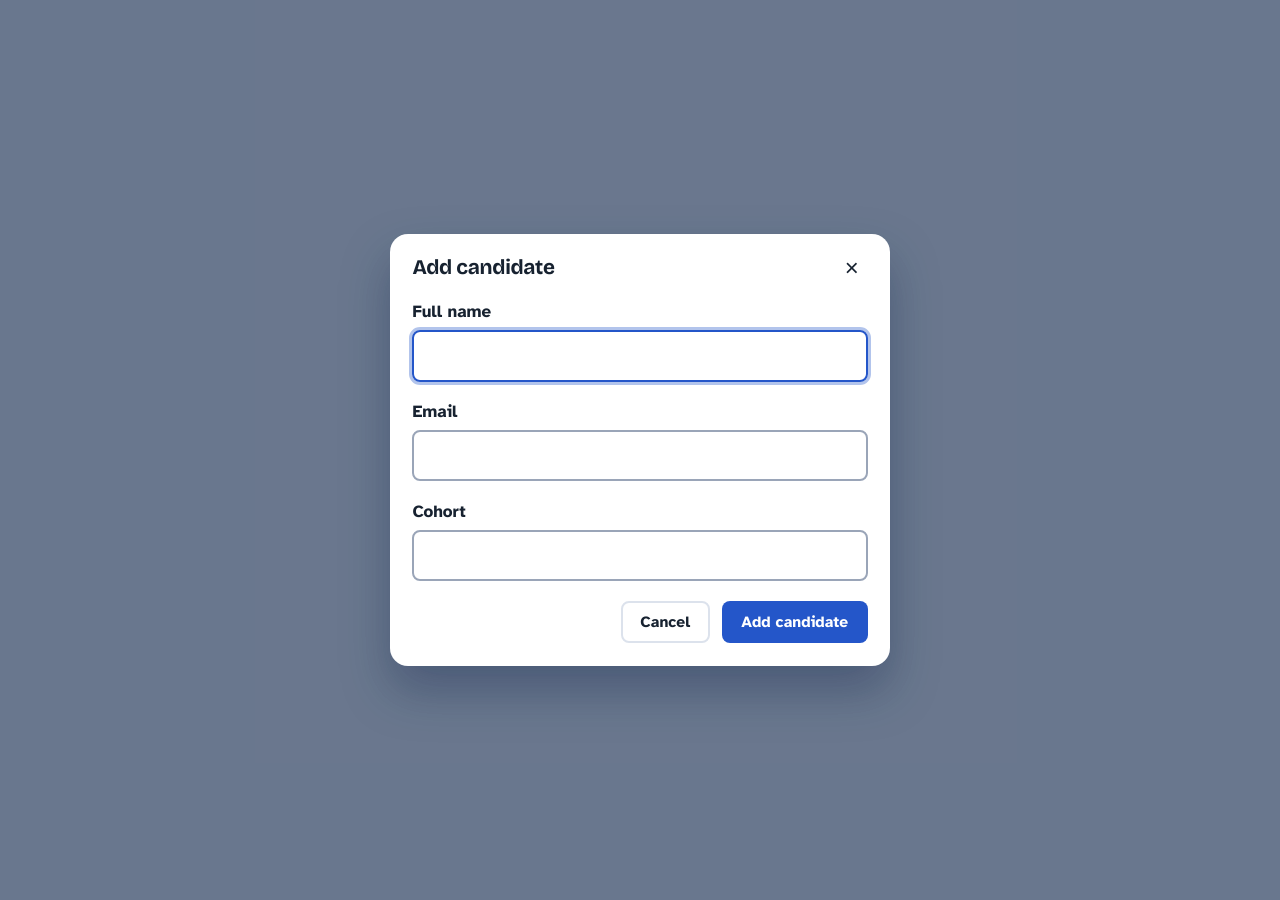
AddCandidateModal › requires name, email and cohort
Click the button "Add candidate" at (795,622), box [722,601,868,643]
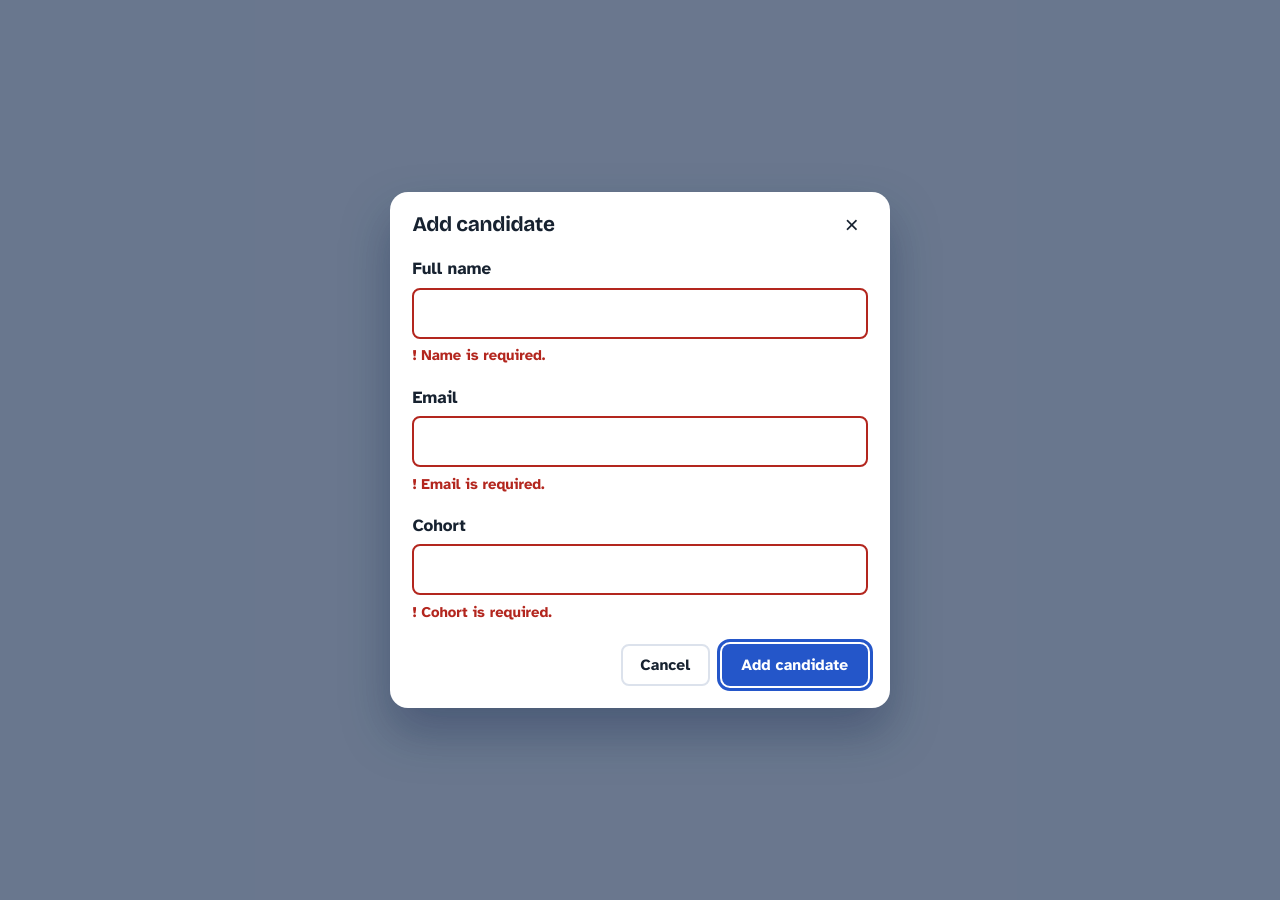
Now the text "Name is required." is shown, box [421,346,545,364]
Now the text "Email is required." is shown, box [421,475,545,493]
Now the text "Cohort is required." is shown, box [421,603,552,621]
